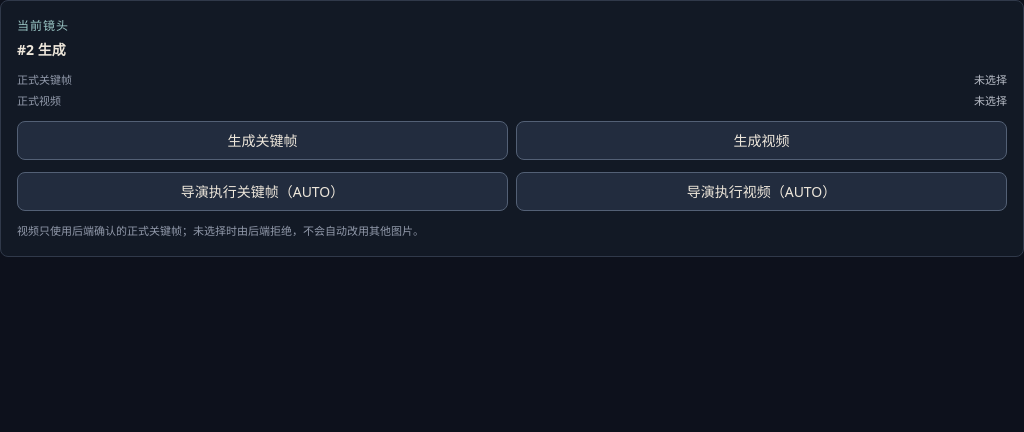
ShotProductionActions › shows template recommendations as suggestions that do not affect this execution
Click the button "生成关键帧": x=262, y=140 [17,121,508,160]
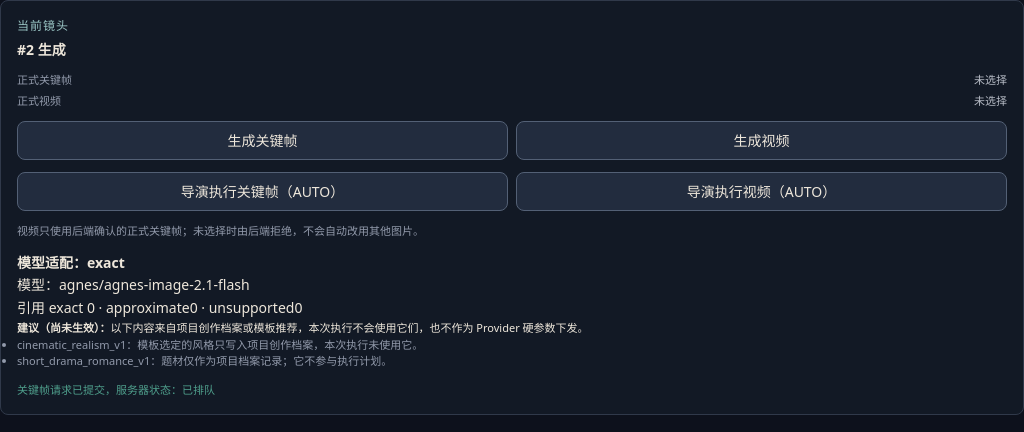
Expected: the element with test id "shot-execution-plan-suggestions" shows "建议（尚未生效）", [17,320,110,335]
Expected: the element with test id "shot-execution-plan-suggestions" shows "不会使用它们", [110,320,589,335]
Expected: the element with test id "shot-execution-plan-suggestions" shows "不作为", [17,320,589,368]
